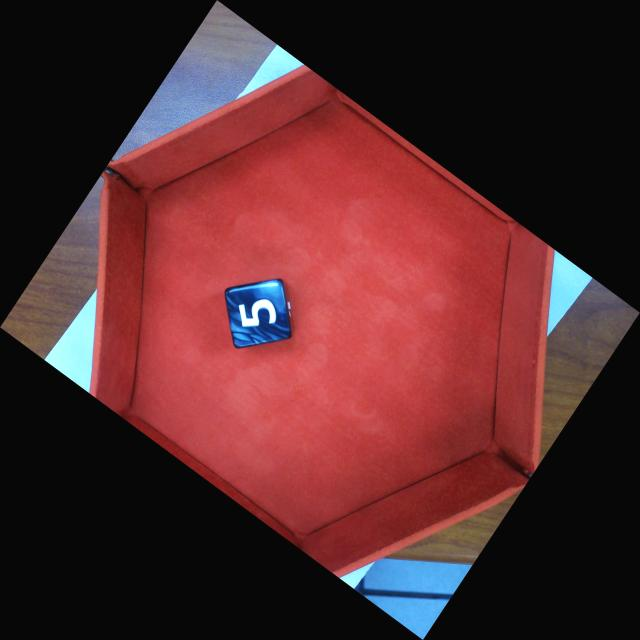dice: (228, 284, 289, 346)
